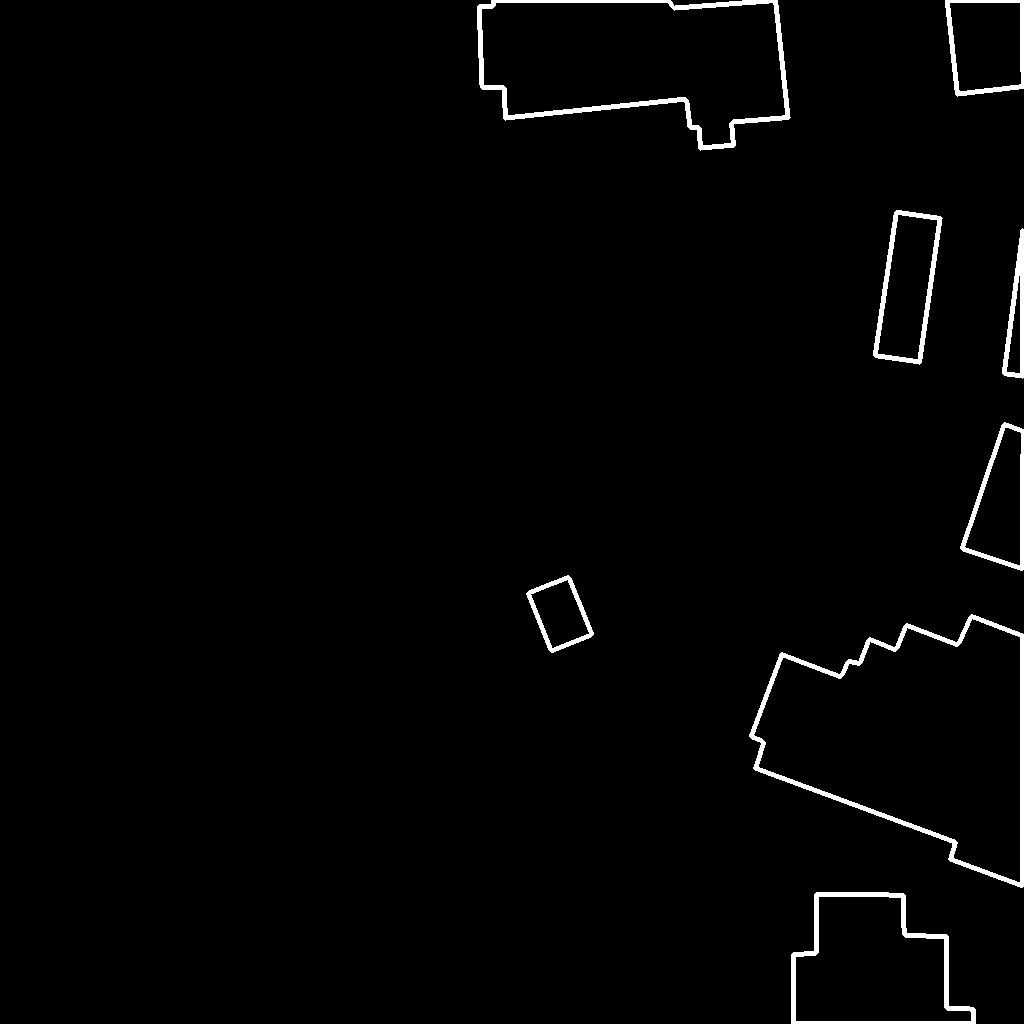building: (751, 616, 1024, 887), (479, 0, 789, 149), (793, 894, 975, 1024), (875, 212, 941, 363), (962, 424, 1024, 570), (947, 0, 1024, 95), (528, 577, 593, 652), (1004, 227, 1024, 377)
